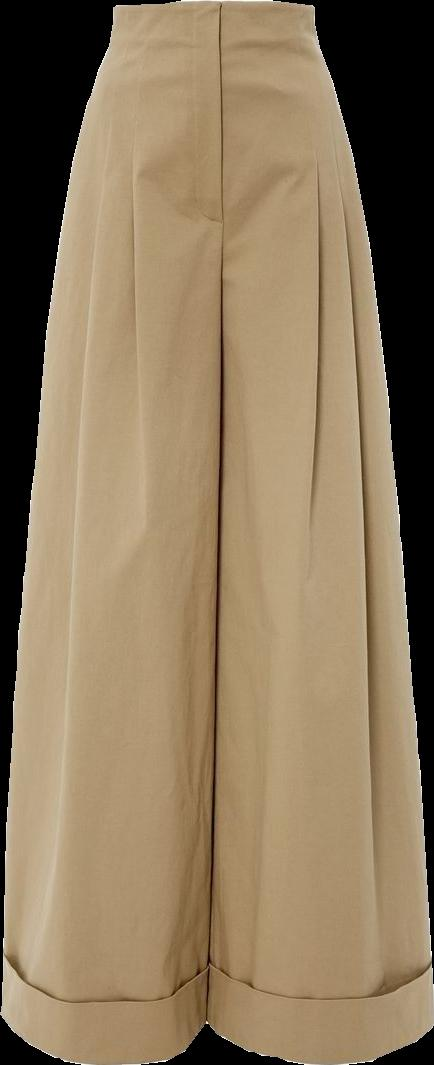Hemline: (0, 1006, 210, 1063), (203, 1013, 433, 1064)
Pantleg: (204, 0, 433, 1064), (1, 0, 219, 1064)
Waistline: (111, 0, 316, 15)
